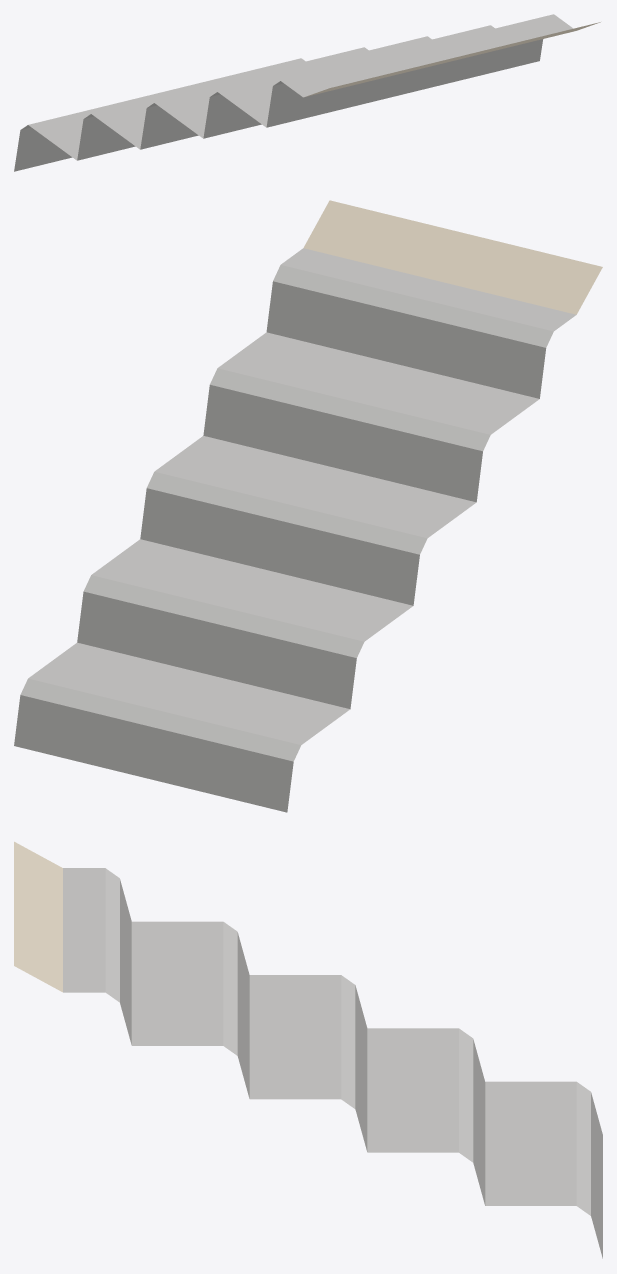
File: Cliff_Terrain_Path_Steps_Center_Top.glb
The picture shows the model from 3 angles, top to bottom: view 1: azimuth 30°, elevation 25°; view 2: azimuth 150°, elevation 25°; view 3: azimuth 270°, elevation 25°; orthographic projection. The views are drawn at different scales.
Parts seen in each view (by area): view 1: Cliff_Terrain_Path_Steps_Center_Top; view 2: Cliff_Terrain_Path_Steps_Center_Top; view 3: Cliff_Terrain_Path_Steps_Center_Top.
Part boxes in pixels (<box>): Cliff_Terrain_Path_Steps_Center_Top: <box>14,14,600,171</box>; Cliff_Terrain_Path_Steps_Center_Top: <box>14,200,602,812</box>; Cliff_Terrain_Path_Steps_Center_Top: <box>14,841,602,1258</box>.
Bounding box in the file's own units: 0.5 × 0.55 × 1.
